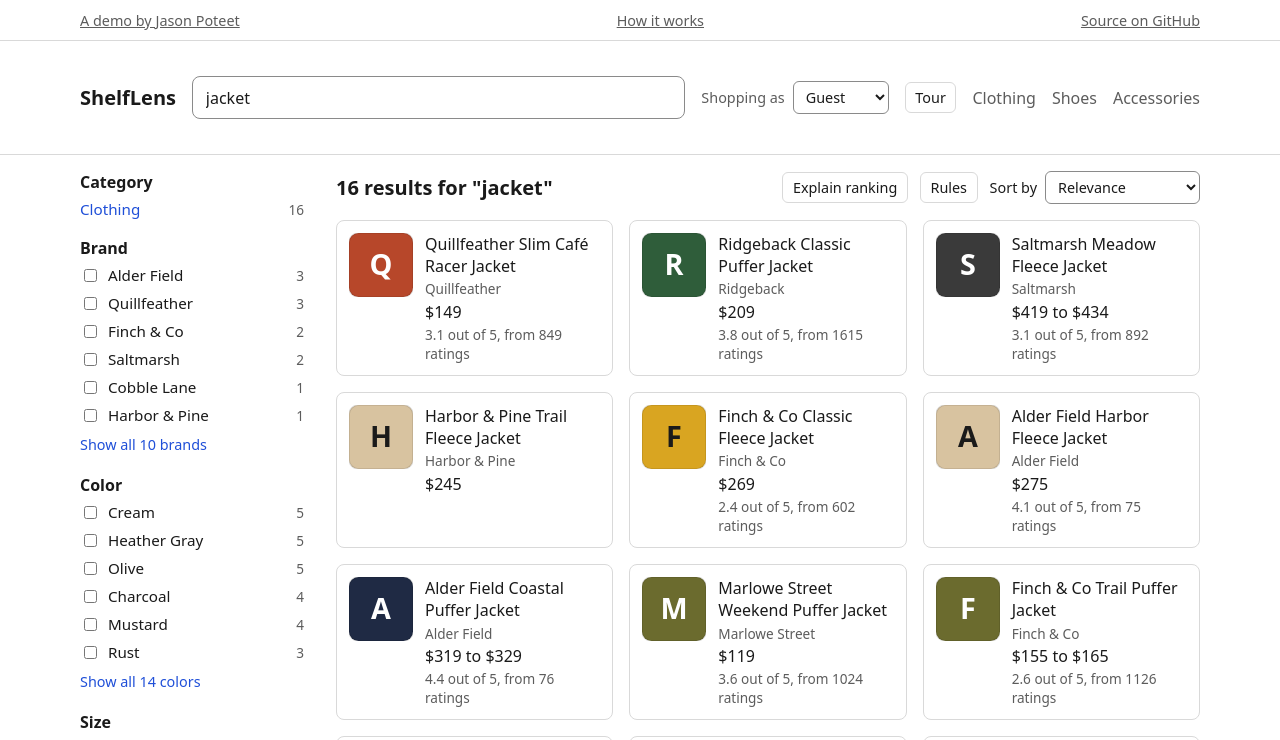
Test: explain mode › says when a sort set the merchandising aside
Expected: the heading "16 results for \"jacket\"" is shown, [336,174,553,201]
Expected: the text "sets aside the pins" is not shown
Select "Price, low to high" in the dropdown labelled "Sort by" at (1122, 188), box [1045,171,1200,204]
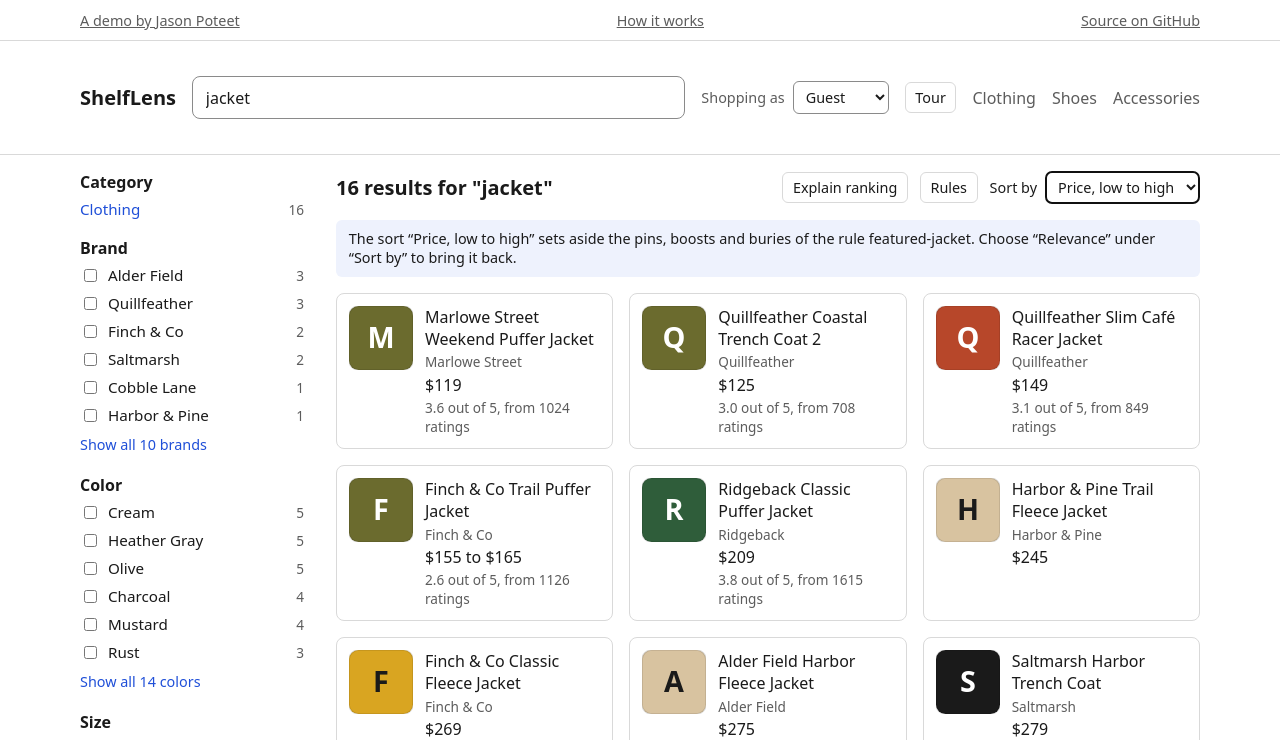
Expected: the text "sets aside the pins" shows "The sort “Price, low to high” sets aside the pins, boosts and buries of the rule featured-jacket. Choose “Relevance” under “Sort by” to bring it back.", [336,220,1200,277]
